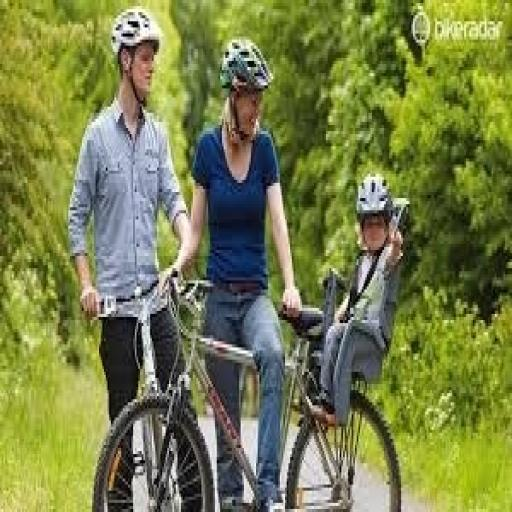cycling: (157, 33, 304, 509), (65, 6, 201, 509)
